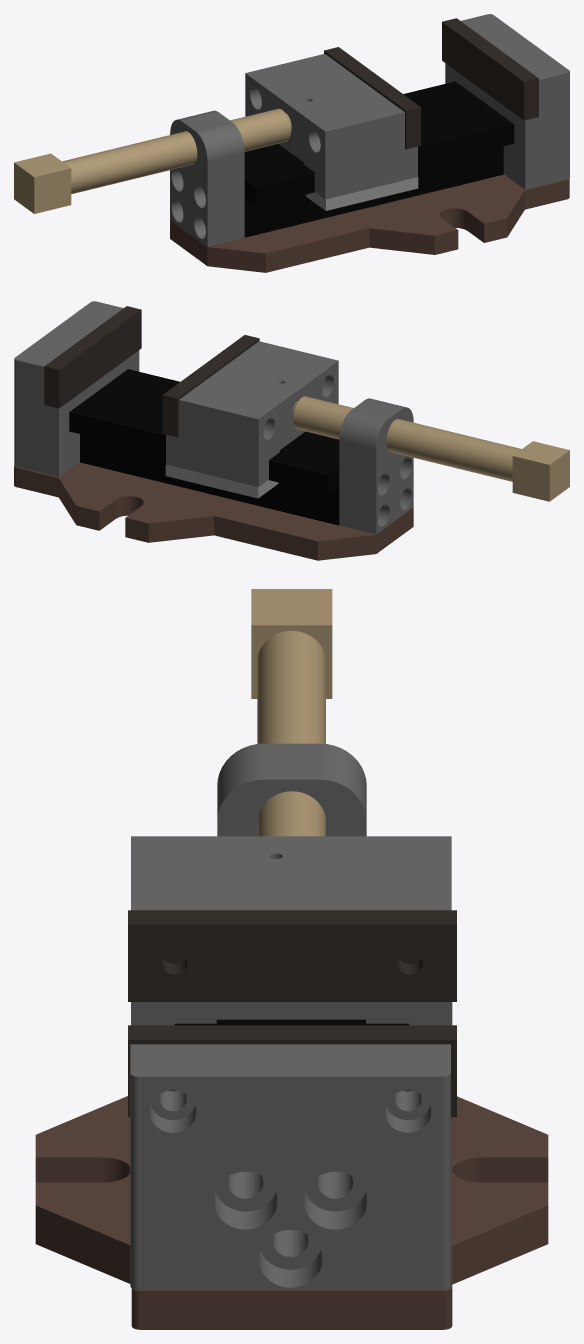
File: machine_vice_full.glb
The picture shows the model from 3 angles, top to bottom: view 1: azimuth 30°, elevation 25°; view 2: azimuth 150°, elevation 25°; view 3: azimuth 270°, elevation 25°; orthographic projection. The views are drawn at different scales.
Parts seen in each view (by area): view 1: Solid1.049, Solid1.044, Solid1.042, Solid1.043, Solid1.045, Sphere.002, Solid1.046, Solid1.048, Solid1.052, Solid1.047; view 2: Solid1.049, Solid1.044, Solid1.042, Solid1.043, Solid1.045, Sphere.002, Solid1.046, Solid1.048, Solid1.052, Solid1.051; view 3: Solid1.043, Solid1.049, Solid1.044, Solid1.052, Solid1.045, Sphere.002, Solid1.046, Solid1.048, Solid1.042.
Part boxes in pixels (x1=…): Solid1.049: x1=170, y1=174, x2=569, y2=272; Solid1.044: x1=245, y1=54, x2=417, y2=199; Solid1.042: x1=244, y1=81, x2=514, y2=237; Solid1.043: x1=445, y1=14, x2=569, y2=189; Solid1.045: x1=170, y1=110, x2=244, y2=246; Sphere.002: x1=62, y1=108, x2=290, y2=194; Solid1.046: x1=442, y1=18, x2=538, y2=120; Solid1.048: x1=14, y1=113, x2=291, y2=213; Solid1.052: x1=324, y1=47, x2=420, y2=149; Solid1.047: x1=305, y1=177, x2=418, y2=210; Solid1.049: x1=14, y1=462, x2=413, y2=560; Solid1.044: x1=166, y1=341, x2=338, y2=486; Solid1.042: x1=69, y1=369, x2=339, y2=525; Solid1.043: x1=14, y1=301, x2=139, y2=476; Solid1.045: x1=339, y1=398, x2=413, y2=534; Sphere.002: x1=292, y1=396, x2=521, y2=481; Solid1.046: x1=44, y1=306, x2=141, y2=408; Solid1.048: x1=292, y1=401, x2=569, y2=501; Solid1.052: x1=162, y1=335, x2=259, y2=437; Solid1.051: x1=165, y1=464, x2=278, y2=498; Solid1.043: x1=130, y1=1044, x2=450, y2=1289; Solid1.049: x1=35, y1=1002, x2=548, y2=1329; Solid1.044: x1=131, y1=836, x2=451, y2=1025; Solid1.052: x1=128, y1=910, x2=456, y2=1001; Solid1.045: x1=217, y1=743, x2=366, y2=836; Sphere.002: x1=257, y1=630, x2=325, y2=836; Solid1.046: x1=128, y1=1025, x2=456, y2=1117; Solid1.048: x1=251, y1=589, x2=332, y2=698; Solid1.042: x1=174, y1=1019, x2=408, y2=1229.
Size of the model in its own units: 0.274 by 0.0665 by 0.12.
